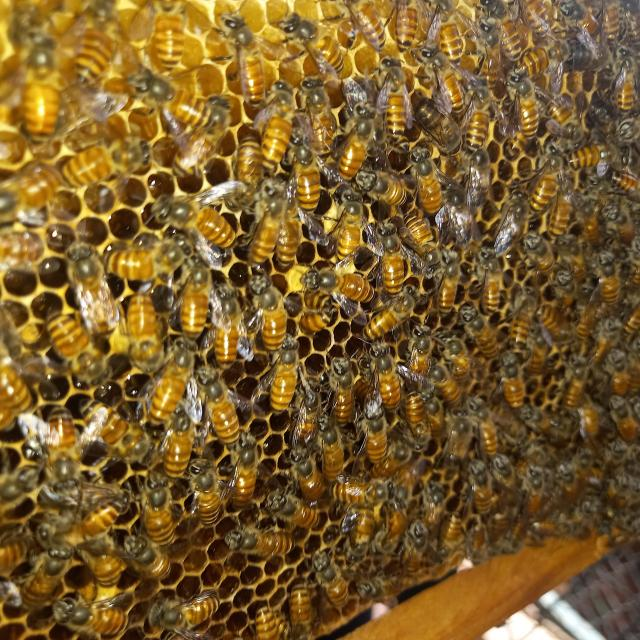honeybee: (27, 414, 118, 479), (125, 289, 180, 376), (78, 17, 140, 90), (68, 235, 122, 318), (454, 406, 545, 454), (290, 21, 338, 107), (219, 34, 281, 100), (144, 401, 197, 476), (256, 282, 304, 362), (0, 358, 52, 431), (302, 266, 386, 310), (190, 202, 272, 246), (310, 546, 372, 604), (15, 514, 64, 587), (13, 35, 52, 125), (474, 254, 522, 324), (322, 196, 374, 258), (400, 514, 450, 576), (372, 235, 426, 292), (282, 149, 330, 213), (162, 90, 228, 135), (59, 597, 128, 640), (190, 372, 248, 422), (209, 282, 249, 354), (455, 452, 500, 516), (268, 493, 330, 538), (364, 398, 403, 469), (552, 258, 590, 328), (528, 327, 566, 396), (404, 169, 456, 219), (323, 428, 365, 489), (76, 490, 145, 527), (229, 447, 268, 512), (422, 56, 466, 111), (32, 322, 83, 369), (124, 531, 177, 576), (98, 250, 197, 274), (256, 285, 292, 350), (296, 577, 333, 640), (168, 590, 228, 628), (611, 46, 640, 124), (10, 171, 58, 218), (356, 291, 408, 334), (190, 465, 233, 517), (256, 112, 294, 170), (589, 198, 639, 242), (493, 362, 532, 418), (288, 462, 341, 503), (518, 458, 559, 511), (180, 268, 216, 328), (518, 96, 556, 152), (316, 370, 364, 414), (424, 260, 466, 310), (59, 149, 146, 173), (493, 173, 541, 216), (452, 337, 488, 391), (490, 454, 526, 508), (236, 531, 298, 562), (522, 226, 560, 275), (252, 598, 296, 640), (452, 150, 498, 190), (379, 55, 410, 114), (140, 476, 178, 524), (334, 125, 388, 156), (598, 388, 635, 430), (563, 403, 597, 445), (555, 454, 591, 493), (492, 51, 545, 77), (274, 220, 310, 258), (604, 111, 640, 149), (563, 146, 611, 174), (555, 173, 584, 219), (371, 159, 403, 199), (254, 205, 276, 263), (465, 97, 490, 145), (79, 536, 115, 569), (584, 324, 617, 360), (350, 506, 382, 542), (427, 360, 457, 398), (597, 10, 632, 39), (355, 11, 385, 42), (466, 11, 500, 38), (551, 7, 577, 34), (428, 17, 449, 46), (414, 327, 436, 354), (380, 348, 398, 379), (400, 6, 416, 38), (600, 249, 610, 292)
